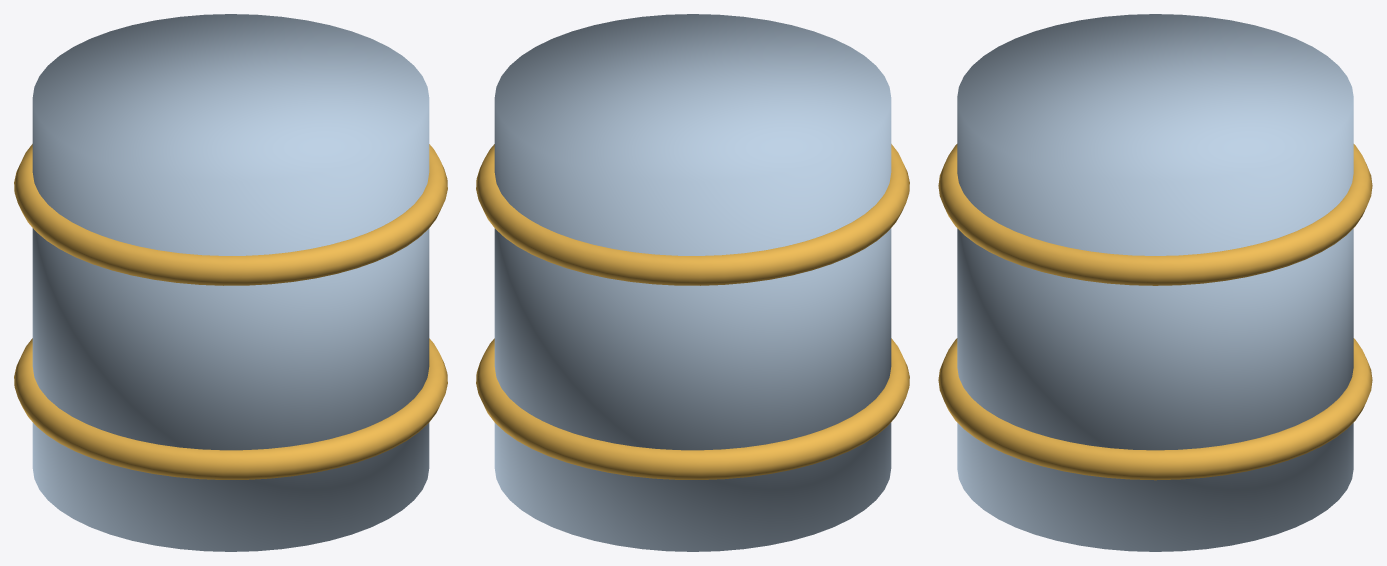
Rendered from 55_L93_HeaterPrecisionThermocouple.fbx.
The picture shows the model from 3 angles, left to right: view 1: azimuth 30°, elevation 25°; view 2: azimuth 150°, elevation 25°; view 3: azimuth 270°, elevation 25°; orthographic projection.
Parts seen in each view (by area): view 1: L92_HeaterPrecisionThermocouple_Part_0000, L92_HeaterPrecisionThermocouple_Part_0001; view 2: L92_HeaterPrecisionThermocouple_Part_0000, L92_HeaterPrecisionThermocouple_Part_0001; view 3: L92_HeaterPrecisionThermocouple_Part_0000, L92_HeaterPrecisionThermocouple_Part_0001.
Part boxes in pixels (x1=…): L92_HeaterPrecisionThermocouple_Part_0000: x1=32, y1=14, x2=429, y2=551; L92_HeaterPrecisionThermocouple_Part_0001: x1=14, y1=144, x2=447, y2=479; L92_HeaterPrecisionThermocouple_Part_0000: x1=494, y1=14, x2=891, y2=551; L92_HeaterPrecisionThermocouple_Part_0001: x1=476, y1=144, x2=909, y2=479; L92_HeaterPrecisionThermocouple_Part_0000: x1=957, y1=14, x2=1353, y2=551; L92_HeaterPrecisionThermocouple_Part_0001: x1=938, y1=144, x2=1372, y2=480.
Bounding box in the file's own units: 324 × 305 × 324.
